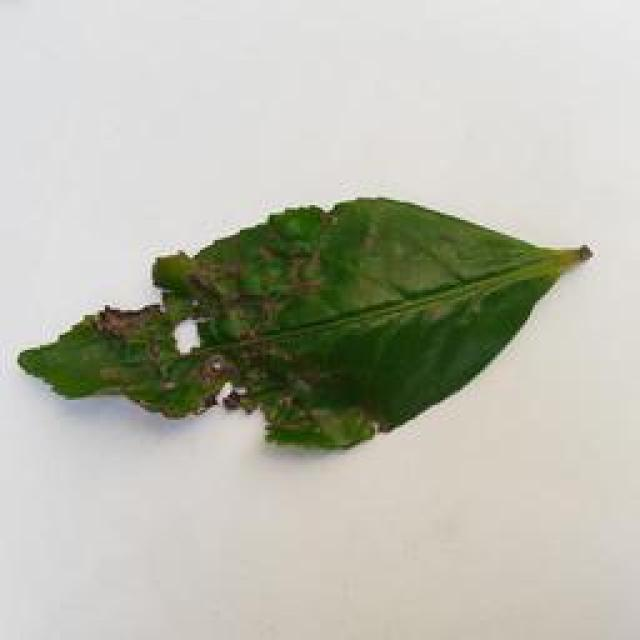Helopeltis: (16, 198, 619, 472)
